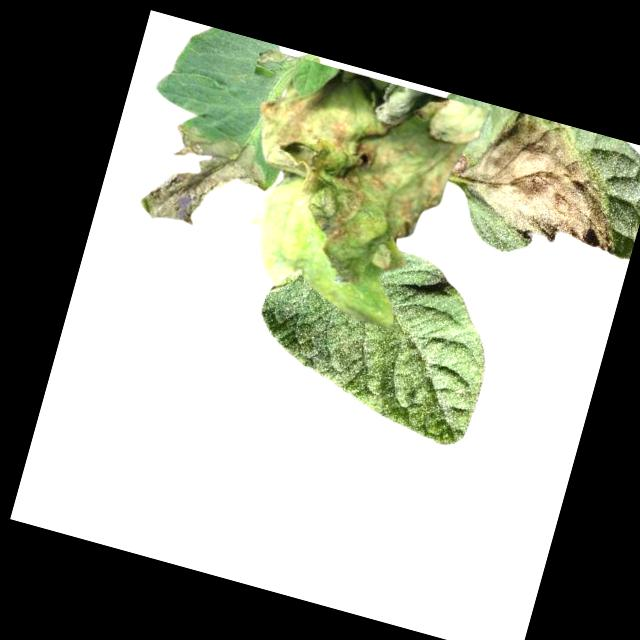Late_blight: (207, 45, 490, 309), (458, 104, 640, 263), (133, 117, 275, 249)
healthy: (238, 219, 512, 451)
